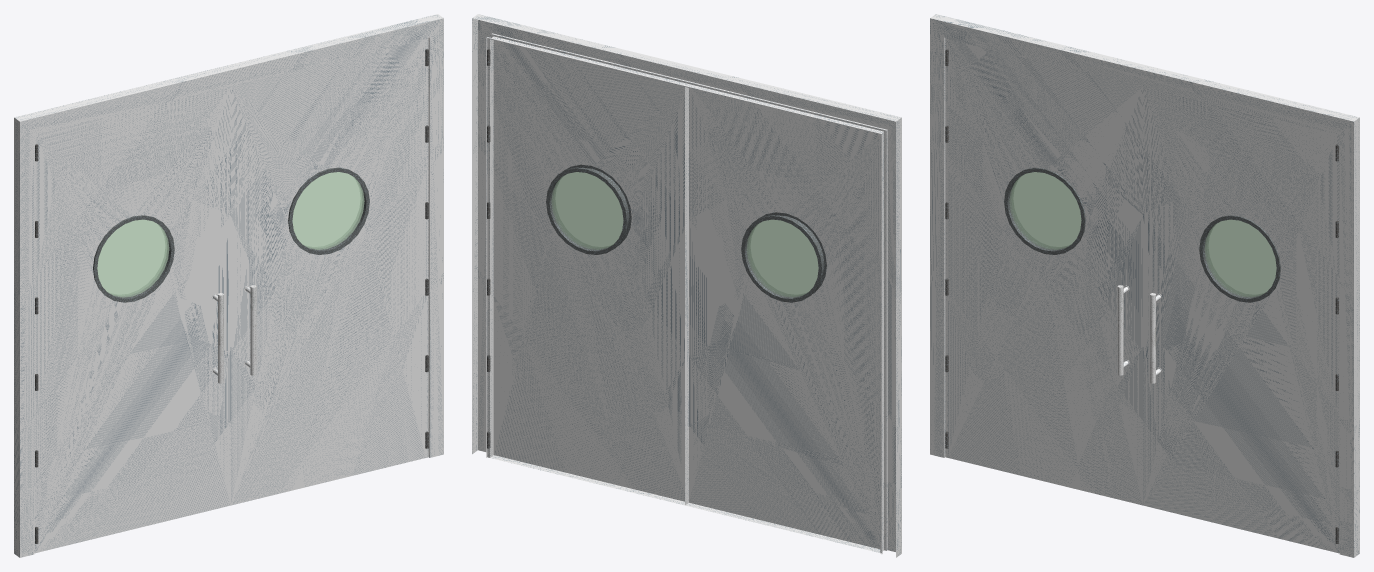
The model's file is Door_os_252x247_T1.dae.
The picture shows the model from 3 angles, left to right: view 1: azimuth 30°, elevation 25°; view 2: azimuth 150°, elevation 25°; view 3: azimuth 330°, elevation 25°; orthographic projection.
Visible parts, largest first — view 1: group_3 (×4), group_13 (×4), group_1, group_16, group_11; view 2: group_13 (×5), group_3 (×5), group_1; view 3: group_13 (×4), group_3 (×4), group_1, group_11, group_16.
Boxes of the visible parts, box(x1,y1,x2,y2) form: group_3 (×4): box(35, 87, 230, 552); group_13 (×4): box(231, 39, 425, 505); group_1: box(14, 14, 443, 557); group_16: box(250, 285, 256, 375); group_11: box(218, 293, 223, 383); group_13 (×5): box(490, 39, 688, 505); group_3 (×5): box(685, 84, 883, 552); group_1: box(472, 14, 901, 557); group_13 (×4): box(1143, 87, 1338, 552); group_3 (×4): box(948, 39, 1142, 505); group_1: box(930, 14, 1359, 557); group_11: box(1117, 285, 1123, 375); group_16: box(1150, 293, 1155, 383).
Bounding box in the file's own units: 99.1 × 5.38 × 97.44.
Materials: 6 (1 with a texture image).
